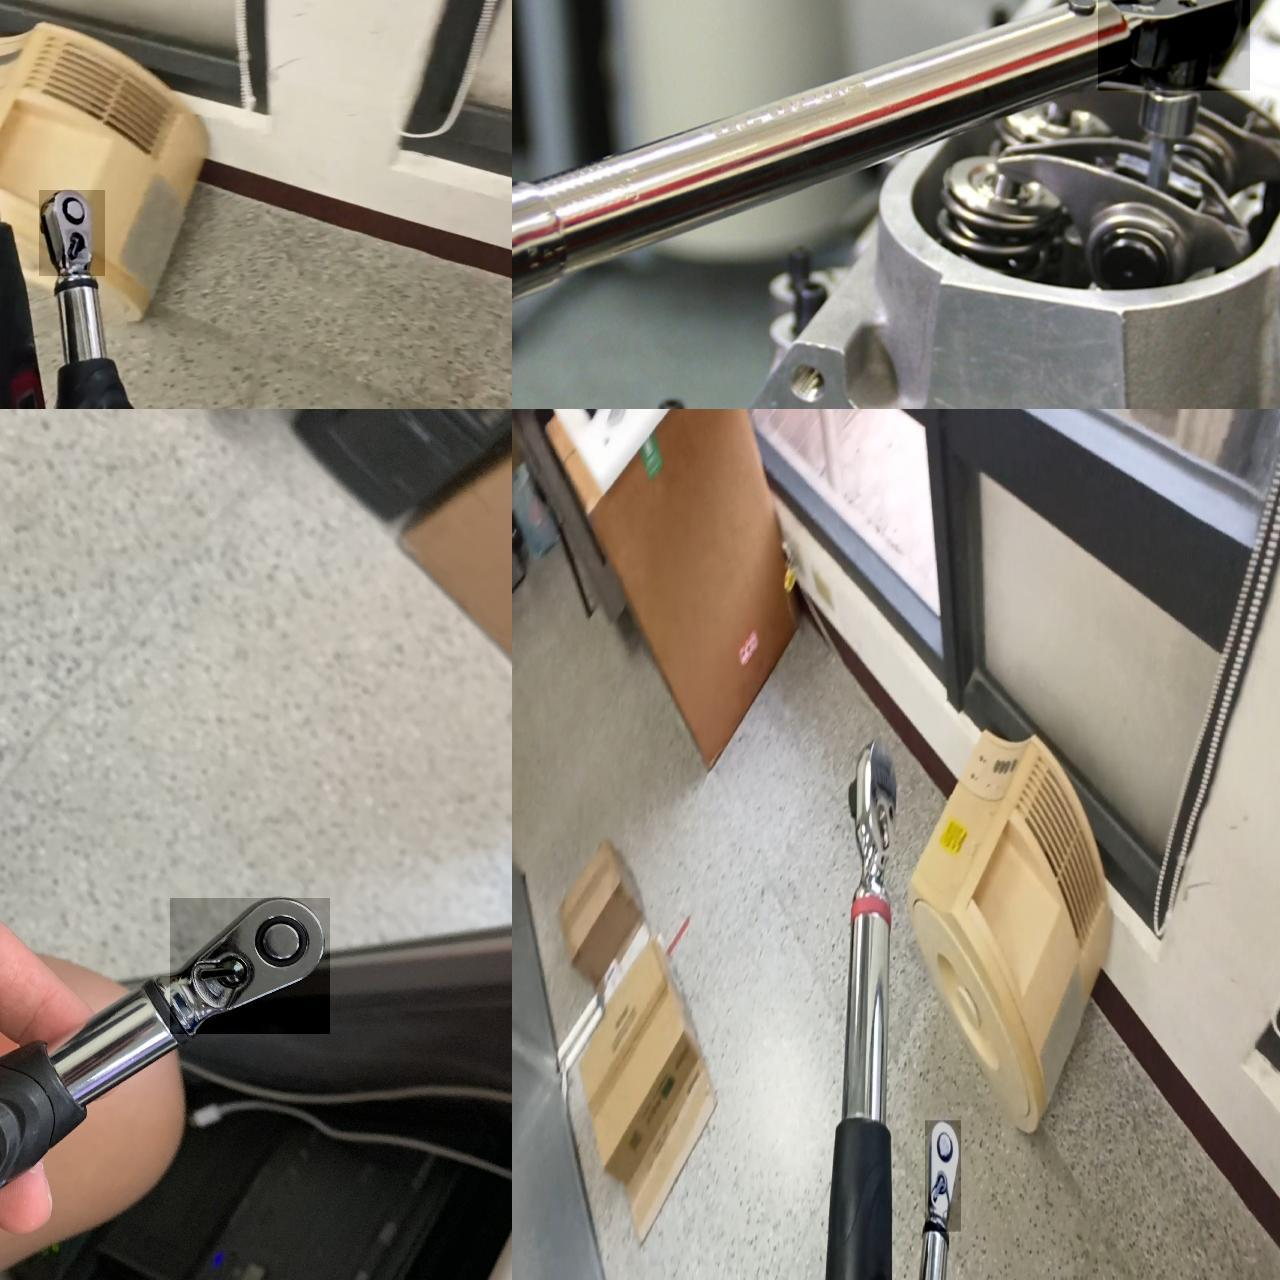Tool: (170, 898, 331, 1034), (1098, 0, 1250, 90), (849, 744, 900, 899), (39, 190, 105, 275), (925, 1121, 961, 1232)
